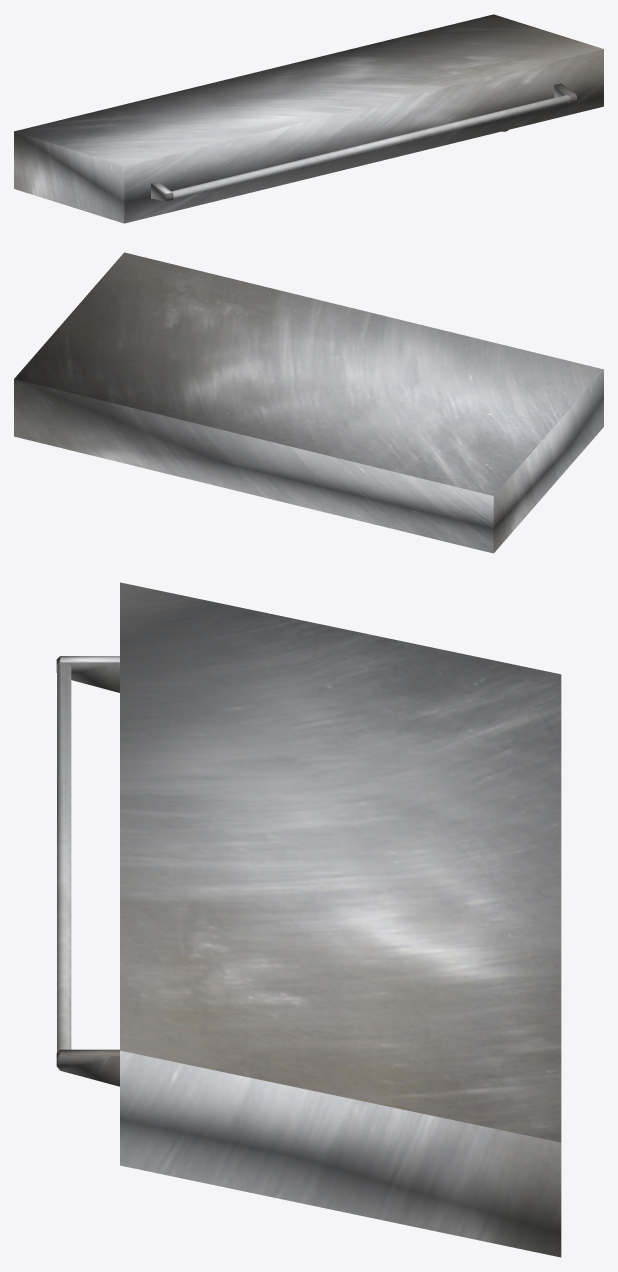
The model's file is KitchenHood_Galley.obj.
The picture shows the model from 3 angles, top to bottom: view 1: azimuth 30°, elevation 25°; view 2: azimuth 150°, elevation 25°; view 3: azimuth 270°, elevation 25°; orthographic projection. The views are drawn at different scales.
Parts seen in each view (by area): view 1: KitchenHood_Galley.obj; view 2: KitchenHood_Galley.obj; view 3: KitchenHood_Galley.obj.
Part boxes in pixels (x1,y1,x2,y2): KitchenHood_Galley.obj: (14,14,603,223); KitchenHood_Galley.obj: (14,252,603,553); KitchenHood_Galley.obj: (56,582,561,1257).
Size of the model in its own units: 17.53 by 3.61 by 7.98.
